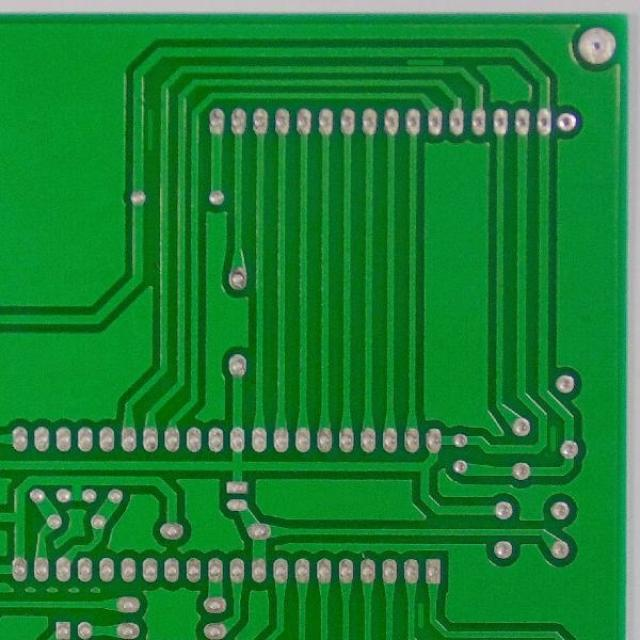Spurious_Cooper: (144, 105, 157, 154), (403, 57, 448, 68), (548, 422, 560, 456), (415, 600, 427, 630)
